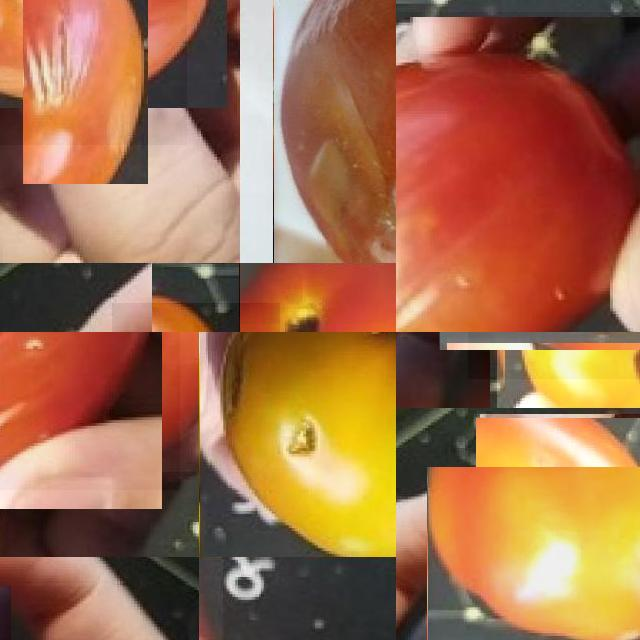Fresh Tomato: (427, 468, 640, 640)
Rotten Tomato: (396, 12, 640, 332), (199, 332, 396, 557), (273, 0, 396, 263), (0, 332, 180, 490), (0, 0, 187, 145)
